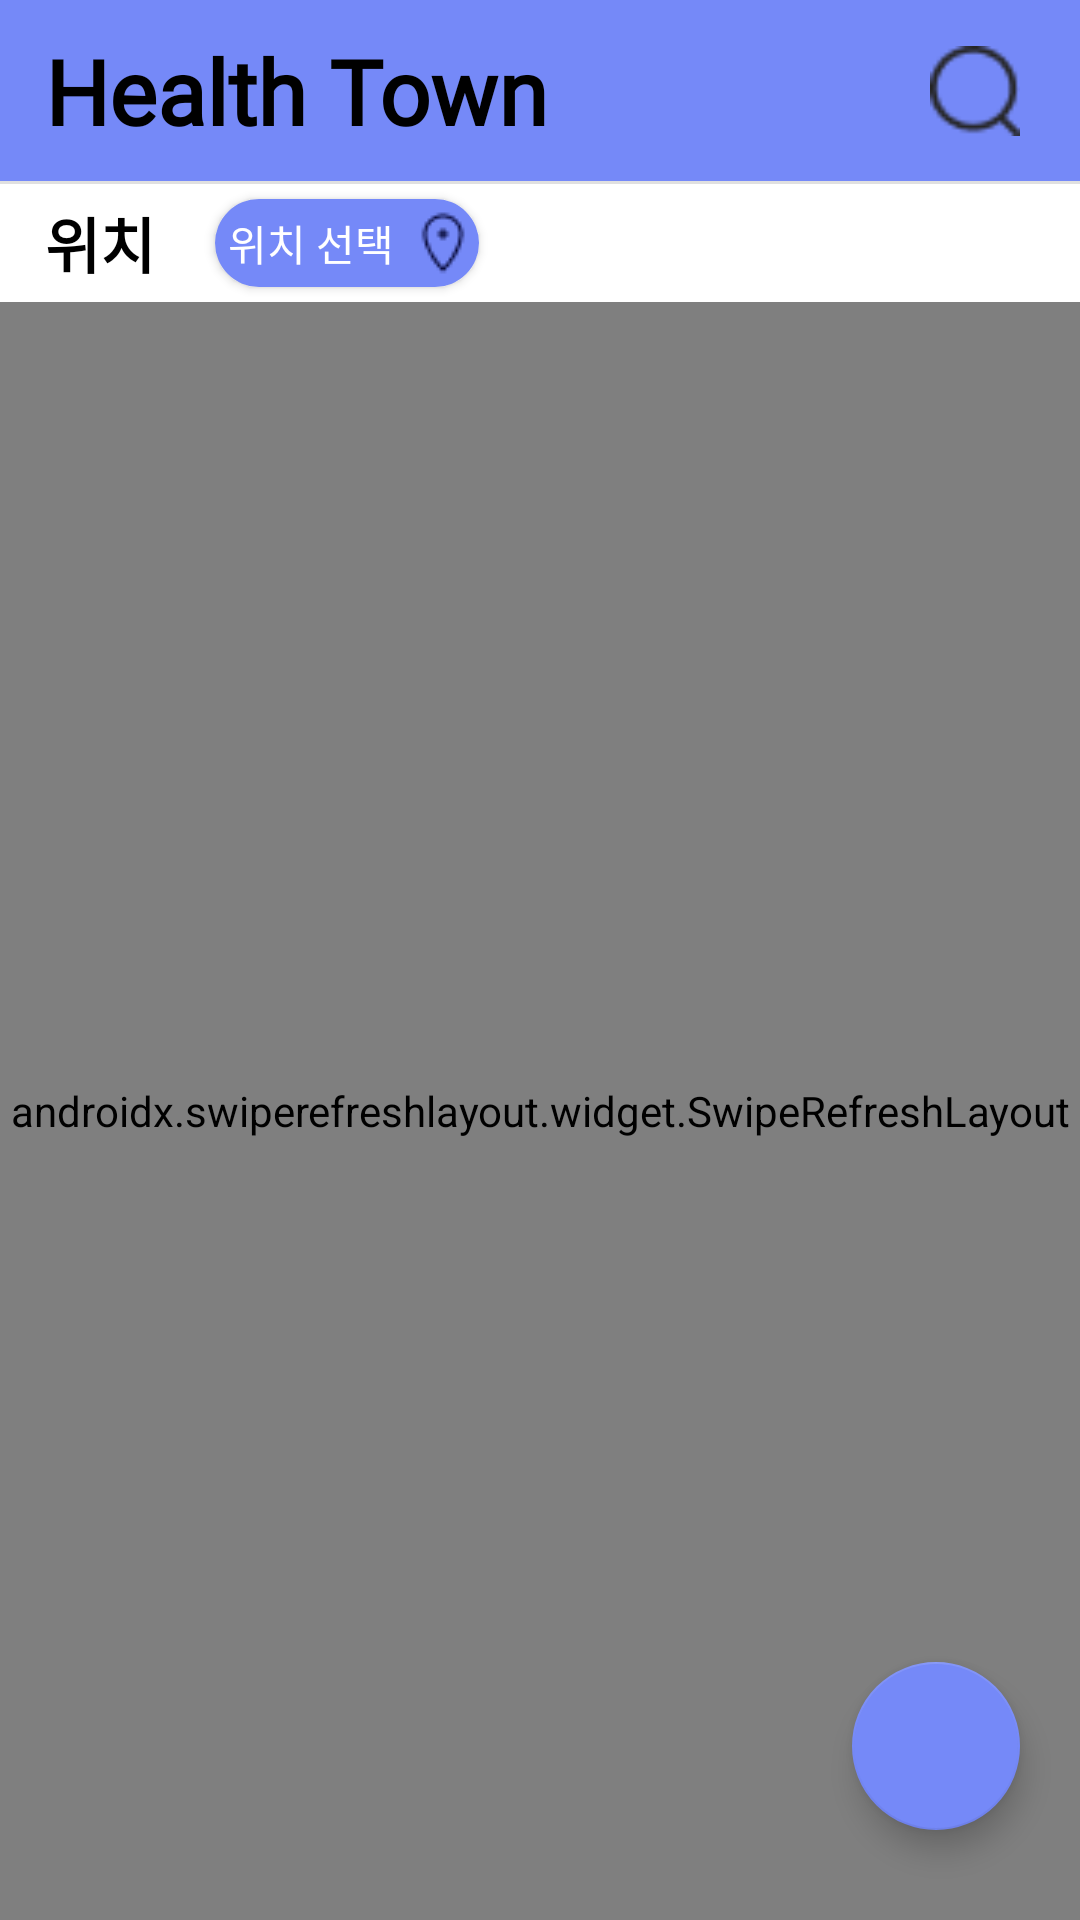

Screen size 1080px x 1920px. Icon name, then its box in pixels as Rect(x1, y1, x2, y2):
search: Rect(930, 46, 1020, 136)
